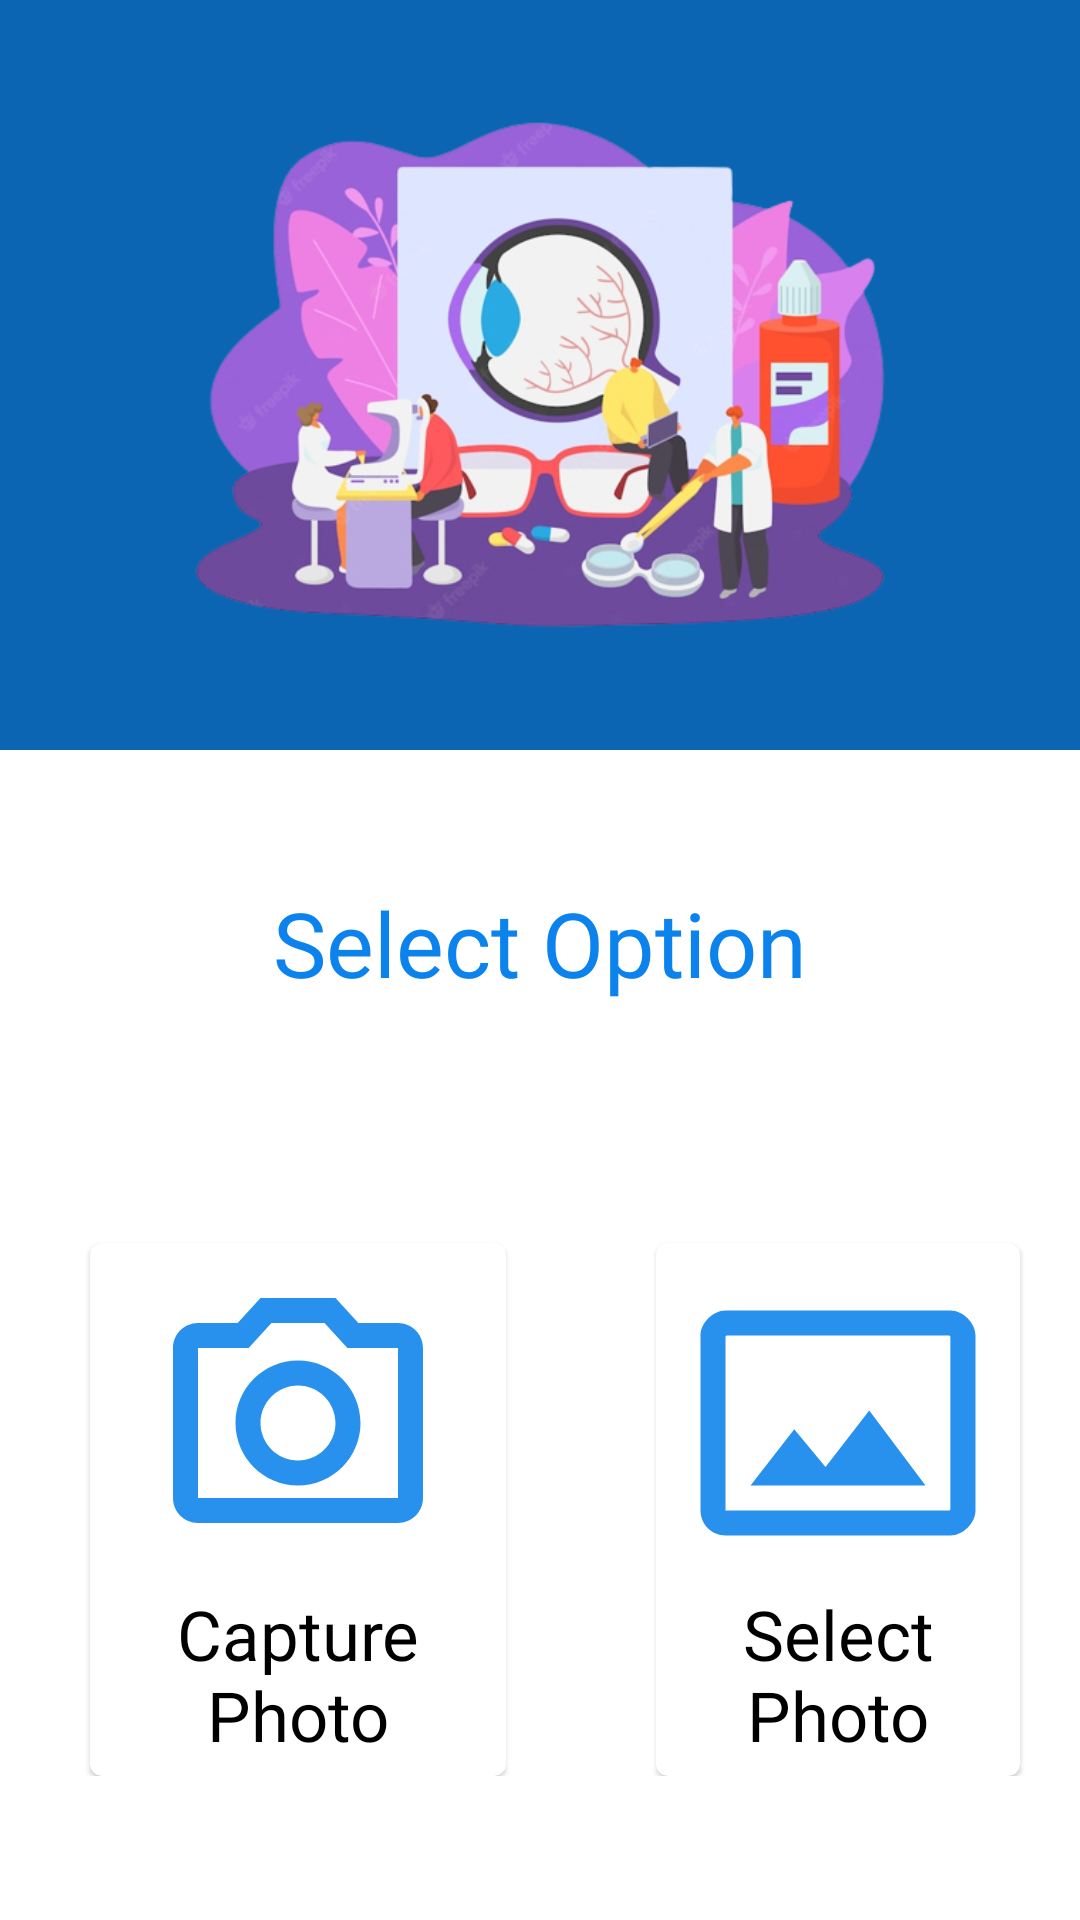

Point at icon controls on the screen. Image size 1080px×1920px, points as [x,y].
photo camera: [298,1410]
photo size select actual: [838,1423]
